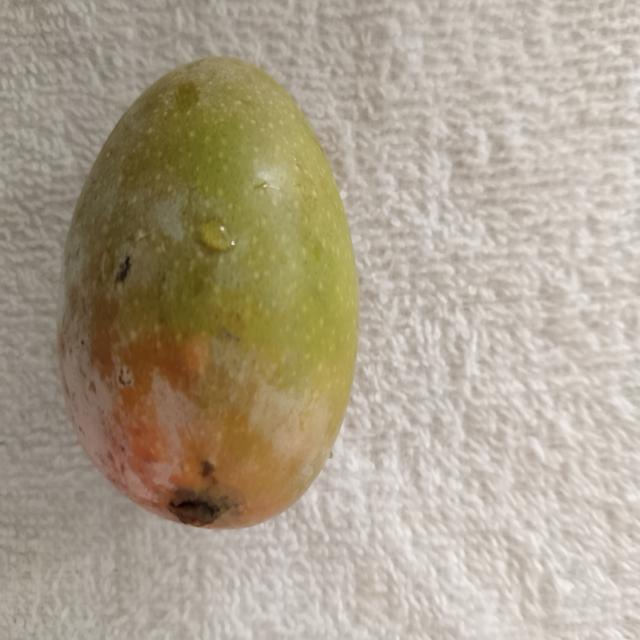mango: (59, 58, 357, 527)
